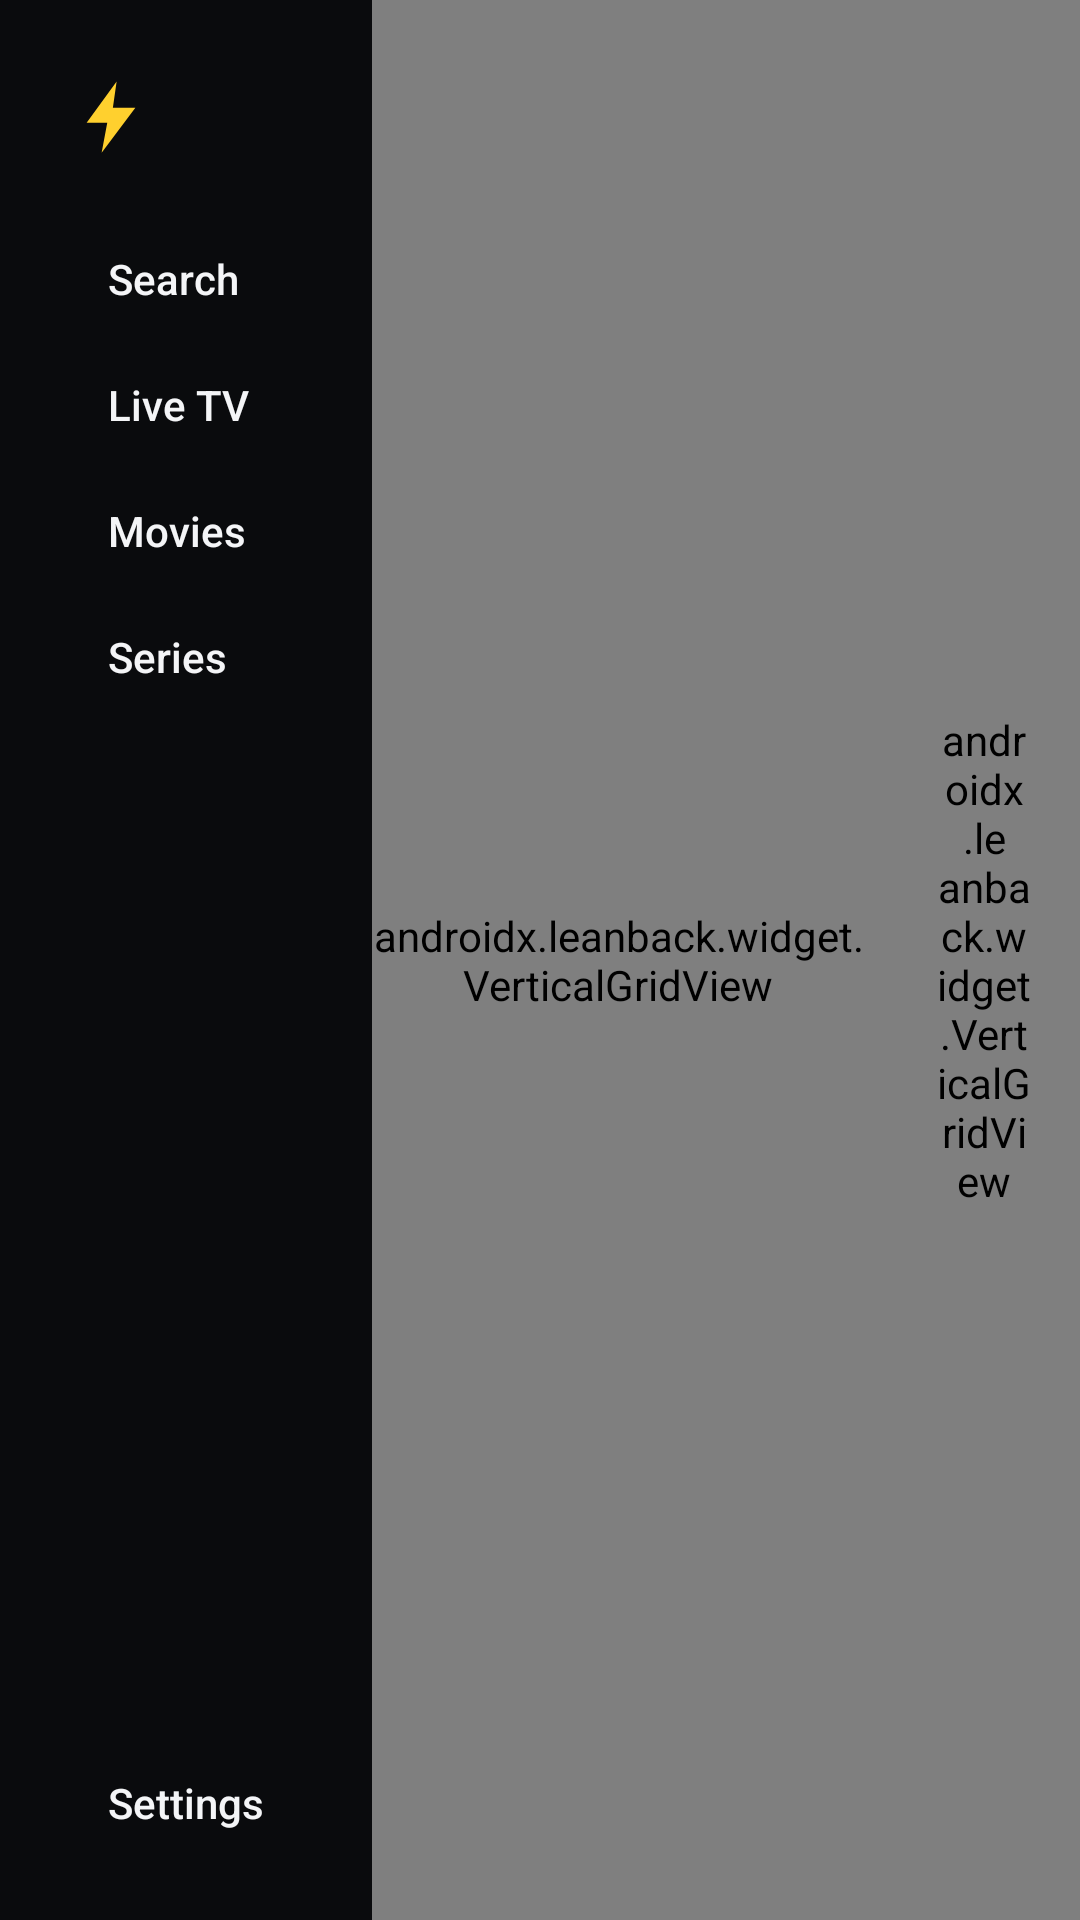

Point at icon controls on the screen. Image size 1080x1920, points as (x,y).
bolt: (111,117)
